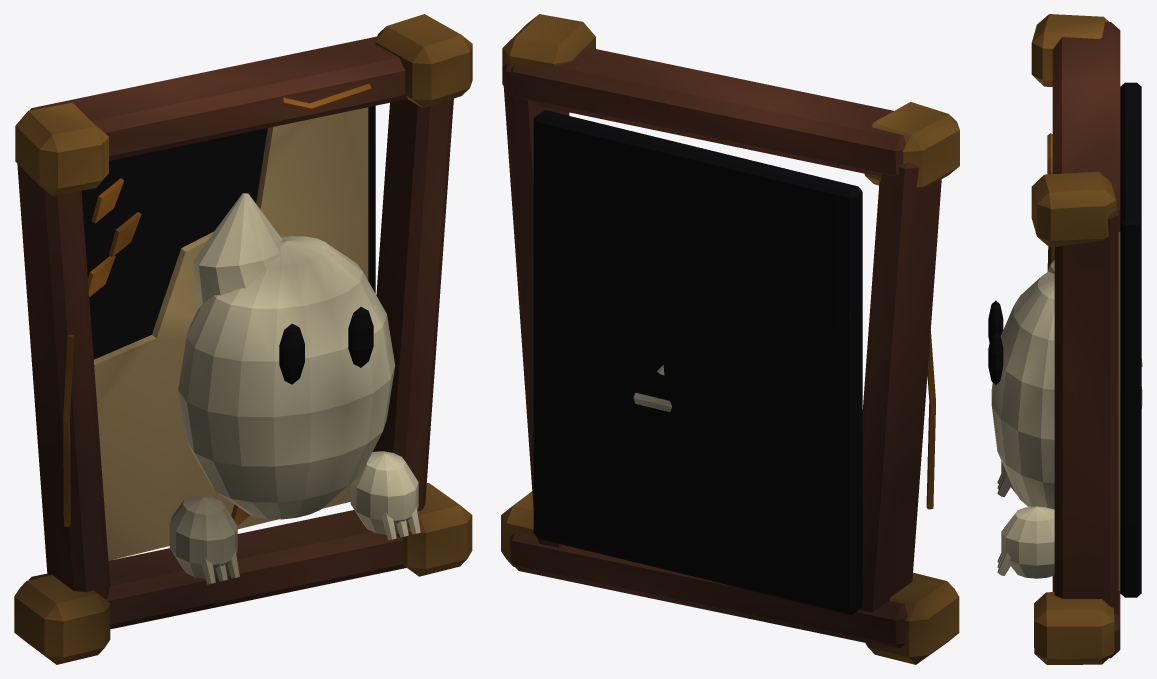
Rendered from pale_guest.fbx.
The picture shows the model from 3 angles, left to right: view 1: azimuth 30°, elevation 25°; view 2: azimuth 150°, elevation 25°; view 3: azimuth 270°, elevation 25°; orthographic projection. The views are drawn at different scales.
Visible parts, largest first — view 1: pale_guest; view 2: pale_guest; view 3: pale_guest.
Part boxes in pixels (left/top/right/bottom): pale_guest: left=14, top=14, right=472, bottom=664; pale_guest: left=501, top=14, right=959, bottom=664; pale_guest: left=988, top=14, right=1142, bottom=664.
Bounding box in the file's own units: 2.51 × 2.94 × 0.869.
